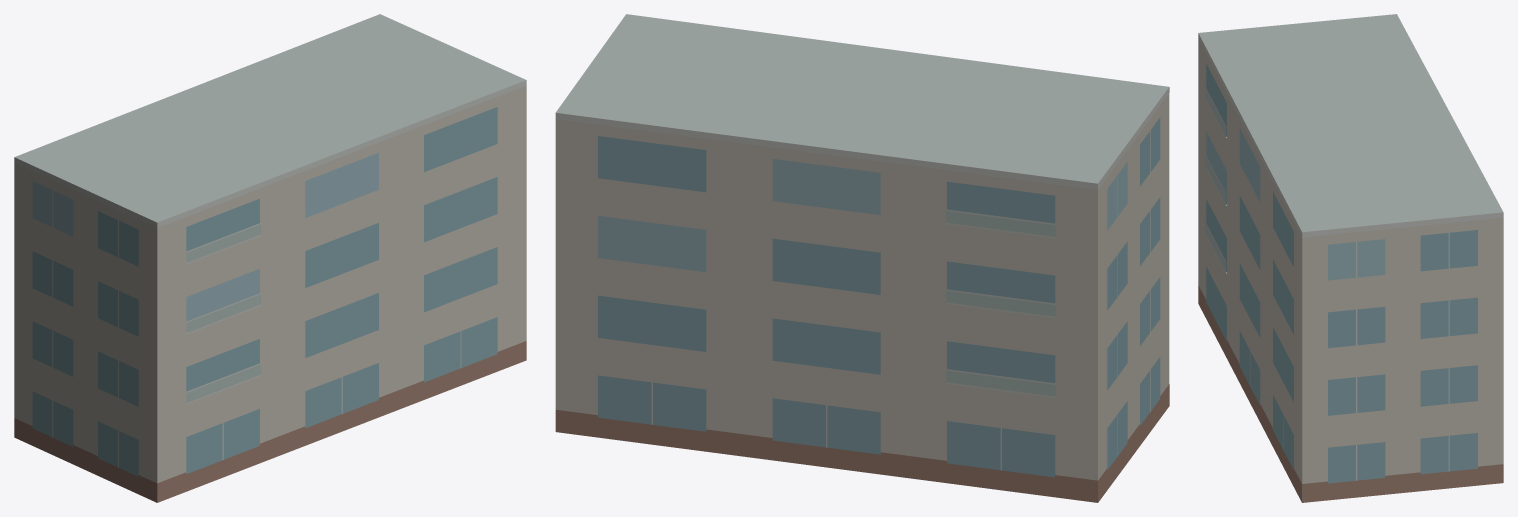
File: survey-upis-32939947.glb
3 views of the same model, side by side, from view 1: azimuth 30°, elevation 25°; view 2: azimuth 150°, elevation 25°; view 3: azimuth 270°, elevation 25° (orthographic). The views are drawn at different scales.
Parts seen in each view (by area): view 1: survey-upis-32939947.tmp; view 2: survey-upis-32939947.tmp; view 3: survey-upis-32939947.tmp.
Part boxes in pixels (x1,y1,x2,y2): survey-upis-32939947.tmp: (14, 14, 526, 502); survey-upis-32939947.tmp: (555, 14, 1169, 502); survey-upis-32939947.tmp: (1198, 14, 1503, 502).
Bounding box in the file's own units: 21.63 × 12.5 × 12.79.
